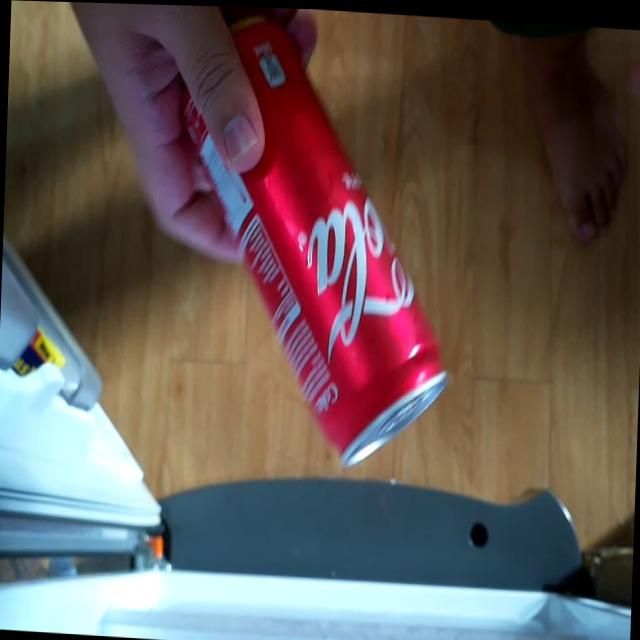coke: (173, 4, 470, 475)
